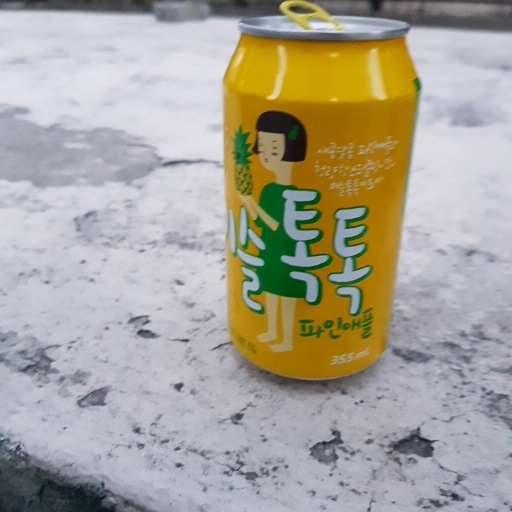Metal_0: (223, 1, 423, 384)
